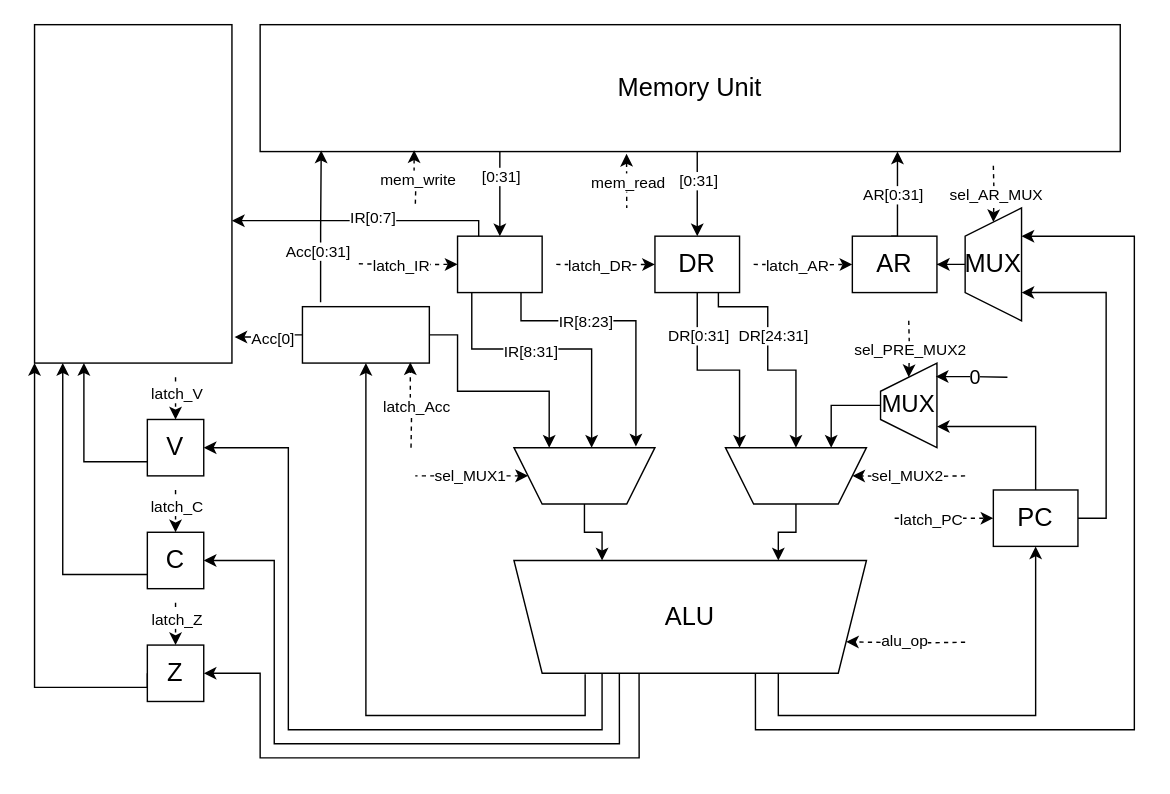
The diagram is 1170 pixels wide and 794 high, and some of its shapes have lost their labels. The shapes that lost their labels are listed below. From the top down, each one's centre as x and y in pixels, then its label:
At [132,193]: "Control Unit".
At [499,264]: "IR".
At [365,334]: "Acc".
At [584,475]: "MUX1".
At [795,475]: "MUX2".
